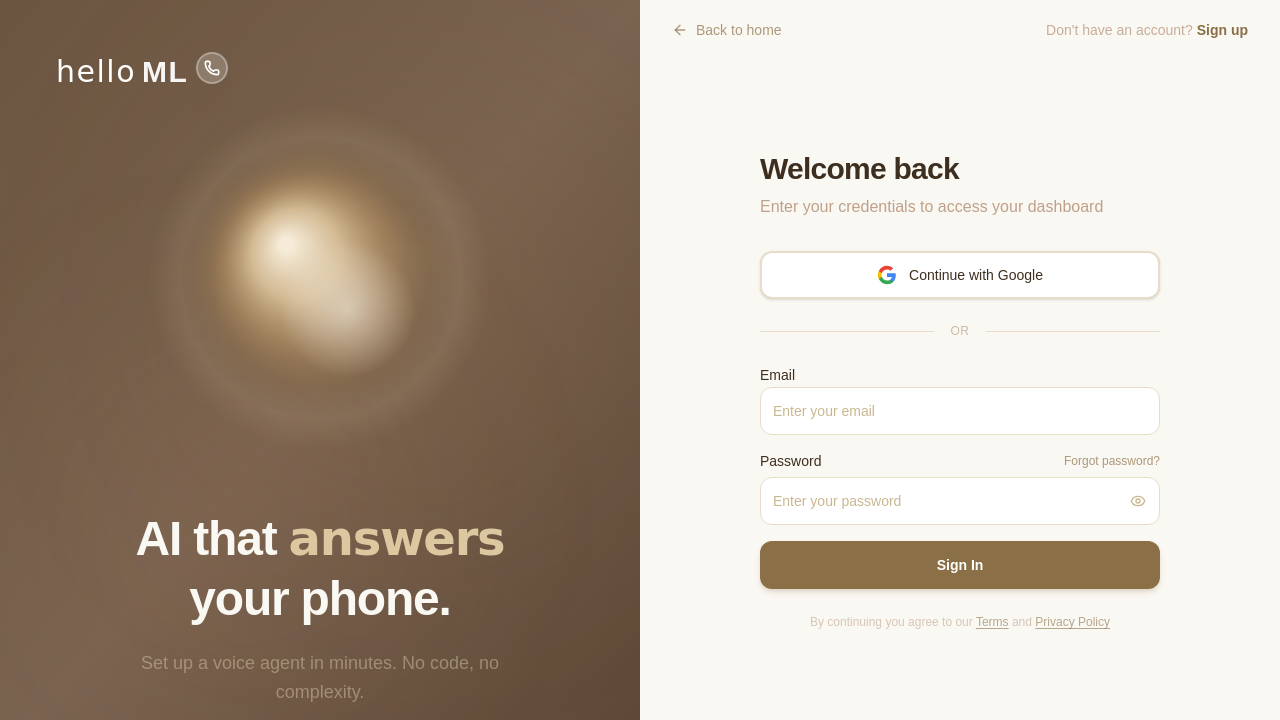
Test: Auth Page › signup form shows name and email fields on step 1
This screenshot has width=1280, height=720.
Click the button "Sign up": (1222, 30) x1=1197 y1=20 x2=1248 y2=40
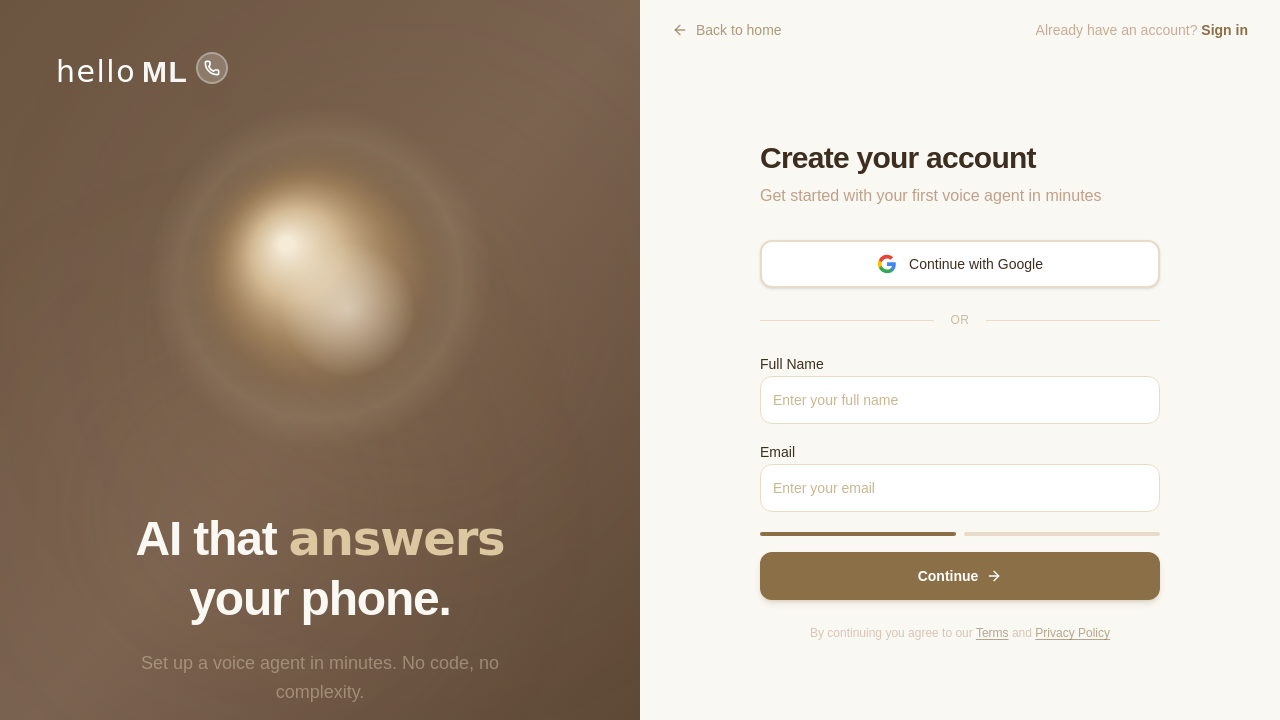
Check: the field with placeholder "Enter your full name" is shown, box x1=760 y1=376 x2=1160 y2=424
